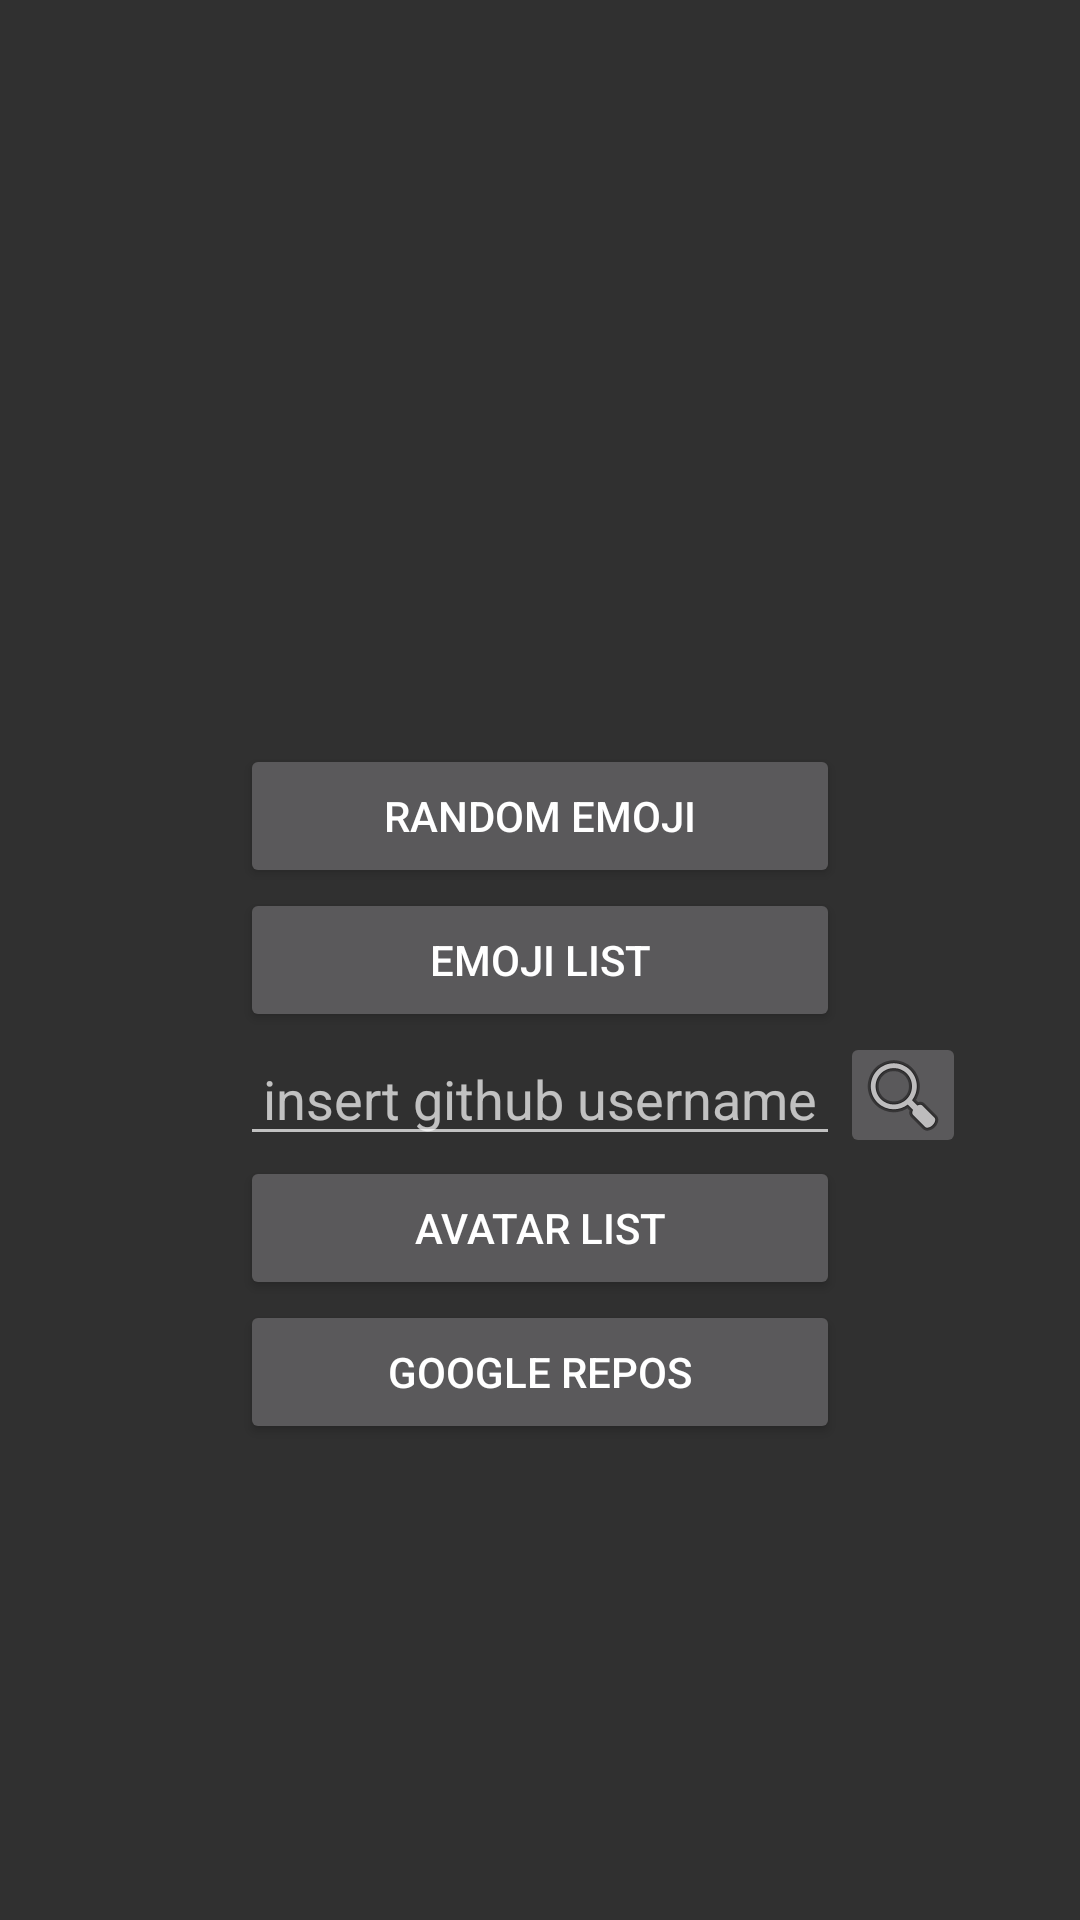

Screen size 1080*1920. Icon name, then its box in pixels as (x1,y1,x2,y2):
search: (852,1050,954,1140)
